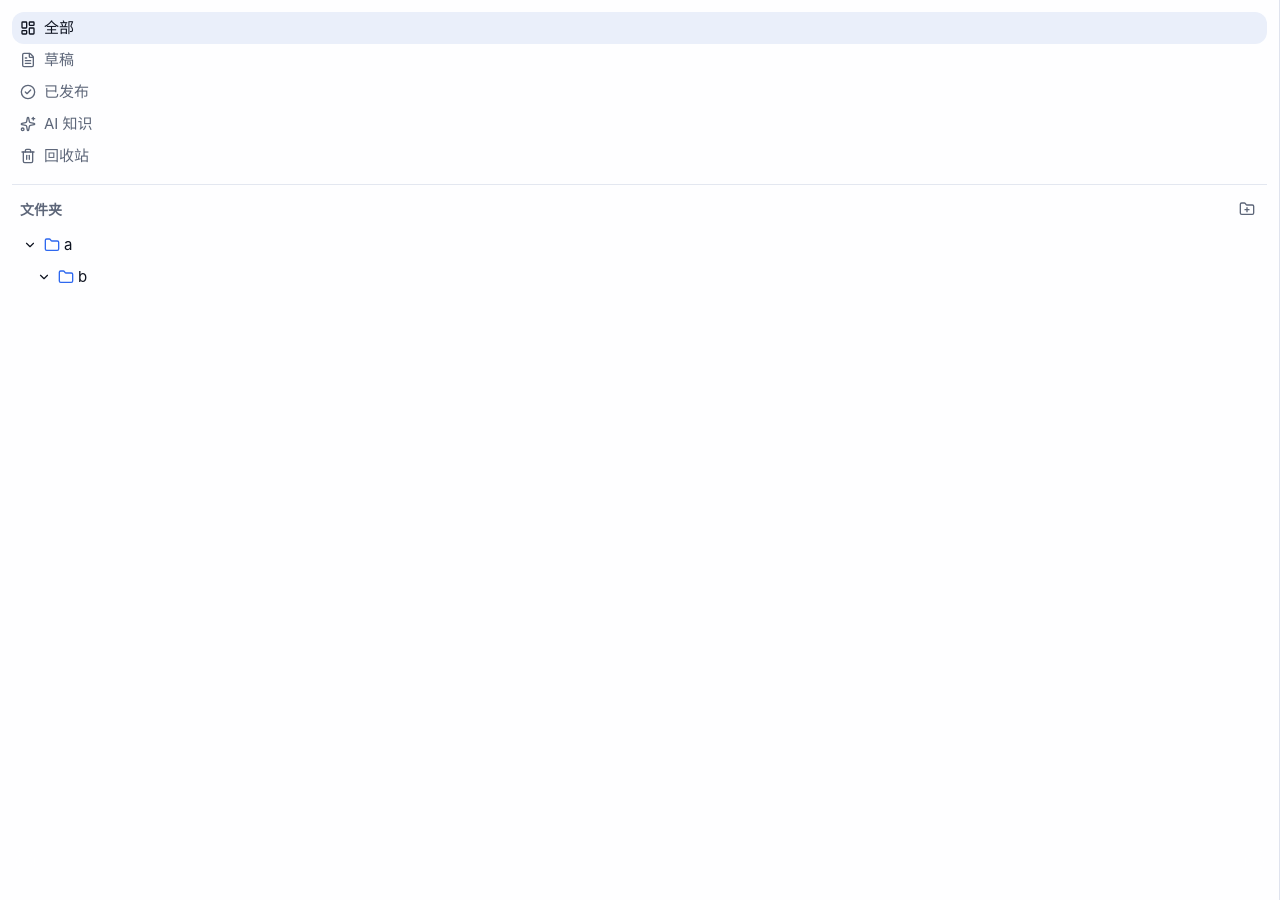
Test: WorkspaceNav › 折叠文件夹隐藏子项并持久化到 localStorage
Expected: the text "b" is shown, [78,267,87,286]
Click the 1st button named "折叠文件夹": (30,245) [20,235,40,255]
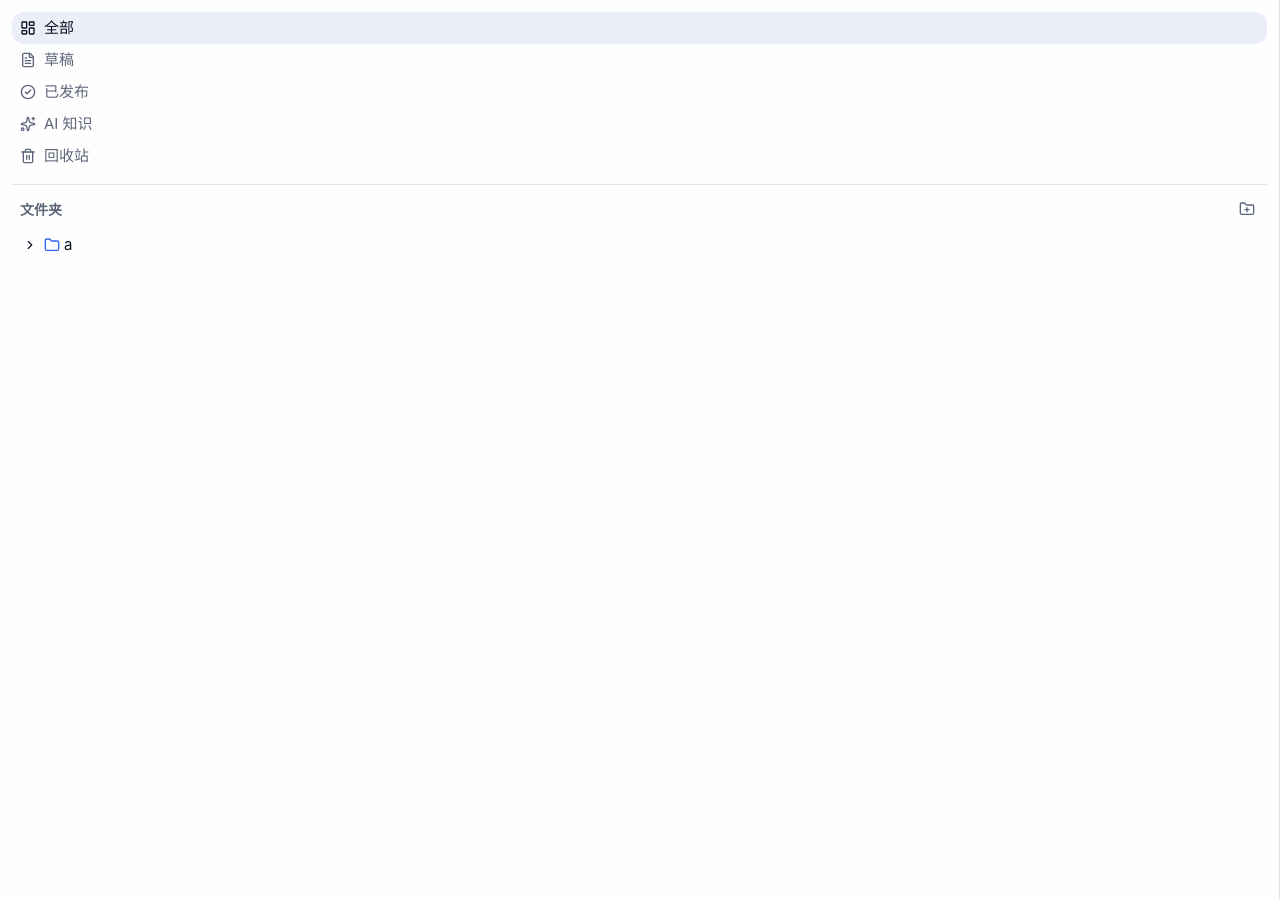
Expected: the text "b" is gone
Click the button named "展开文件夹": (30,245) [20,235,40,255]
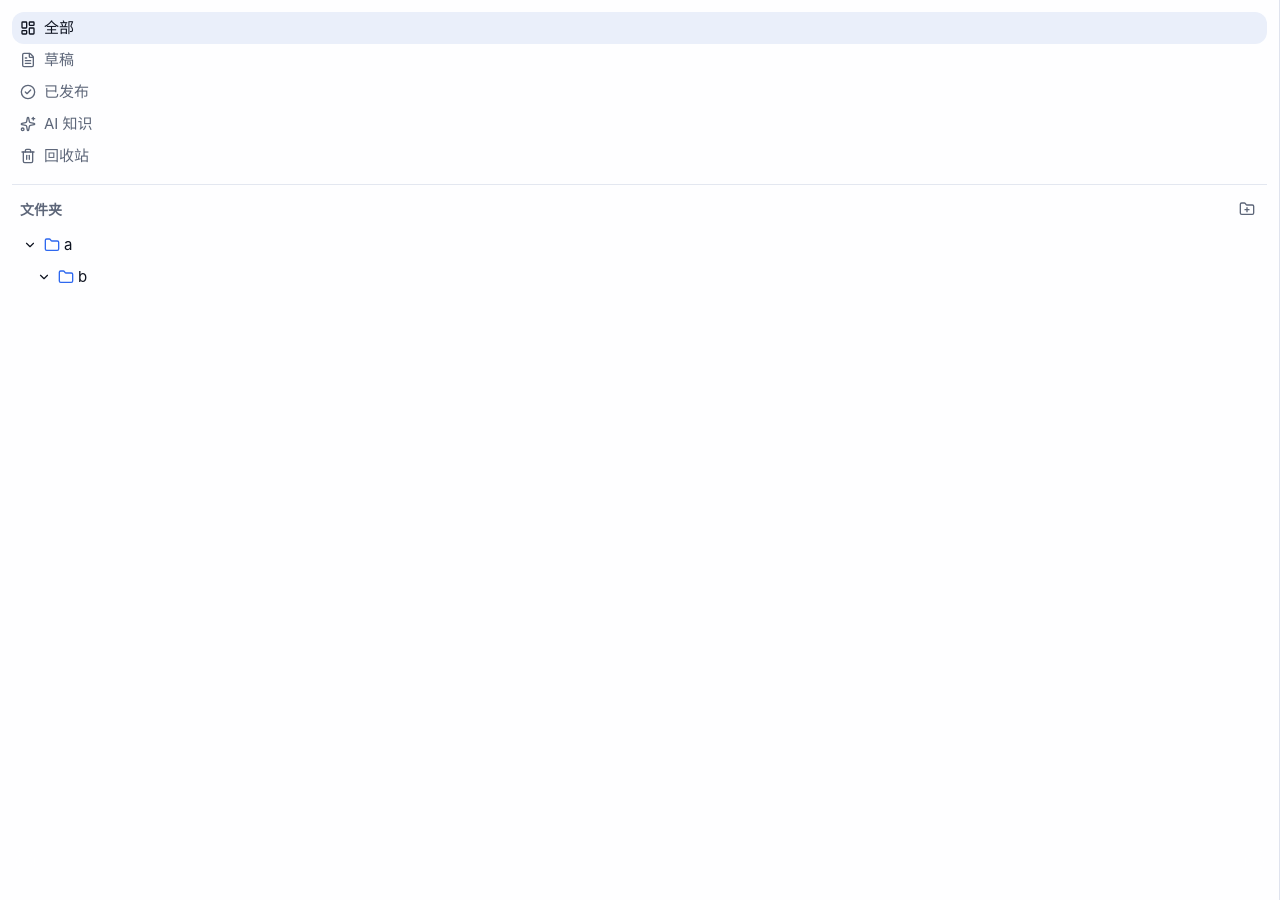
Expected: the text "b" is shown, [78,267,87,286]
